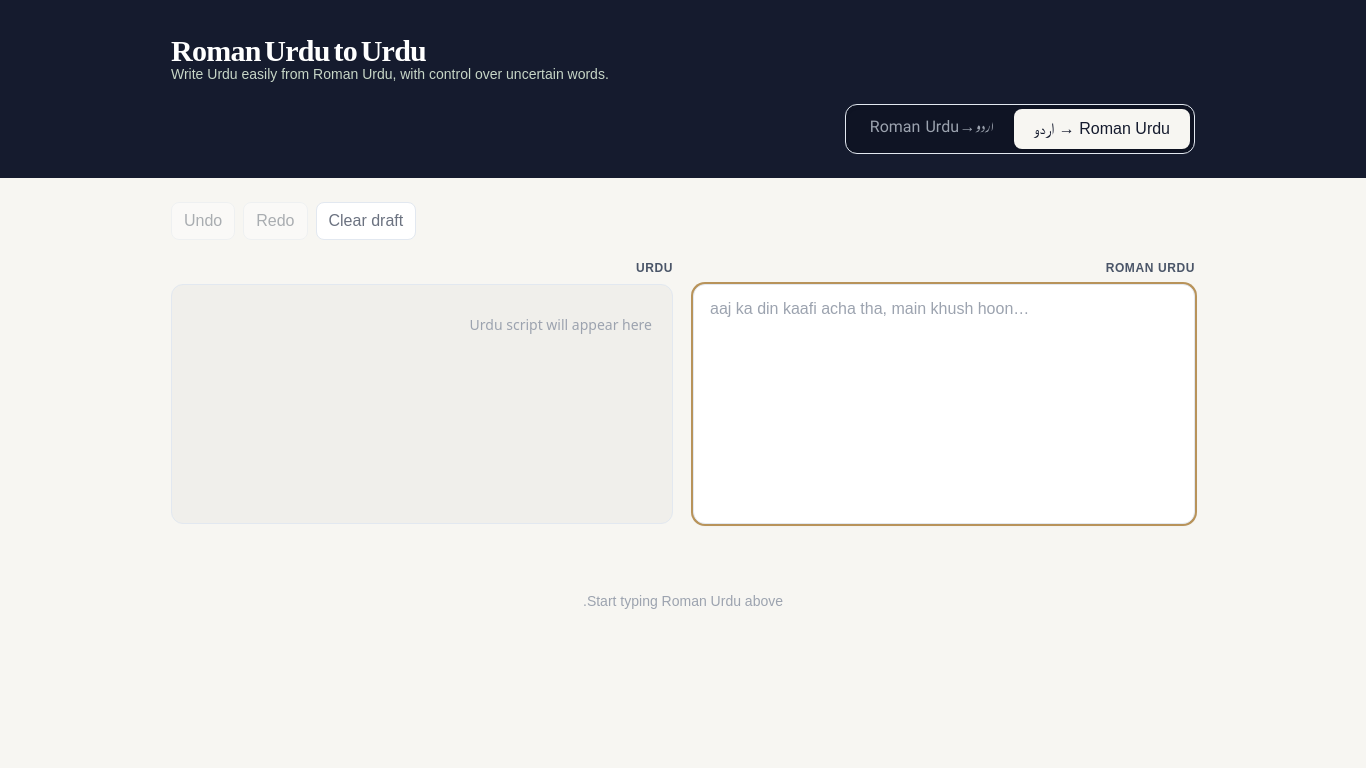
Scenario: 4. known English (office, meeting) not shown in review
Type "office mein meeting hai" into the text box with id "roman-input".
click(944, 404); type("office mein meeting hai")  # box [693,284,1195,524]
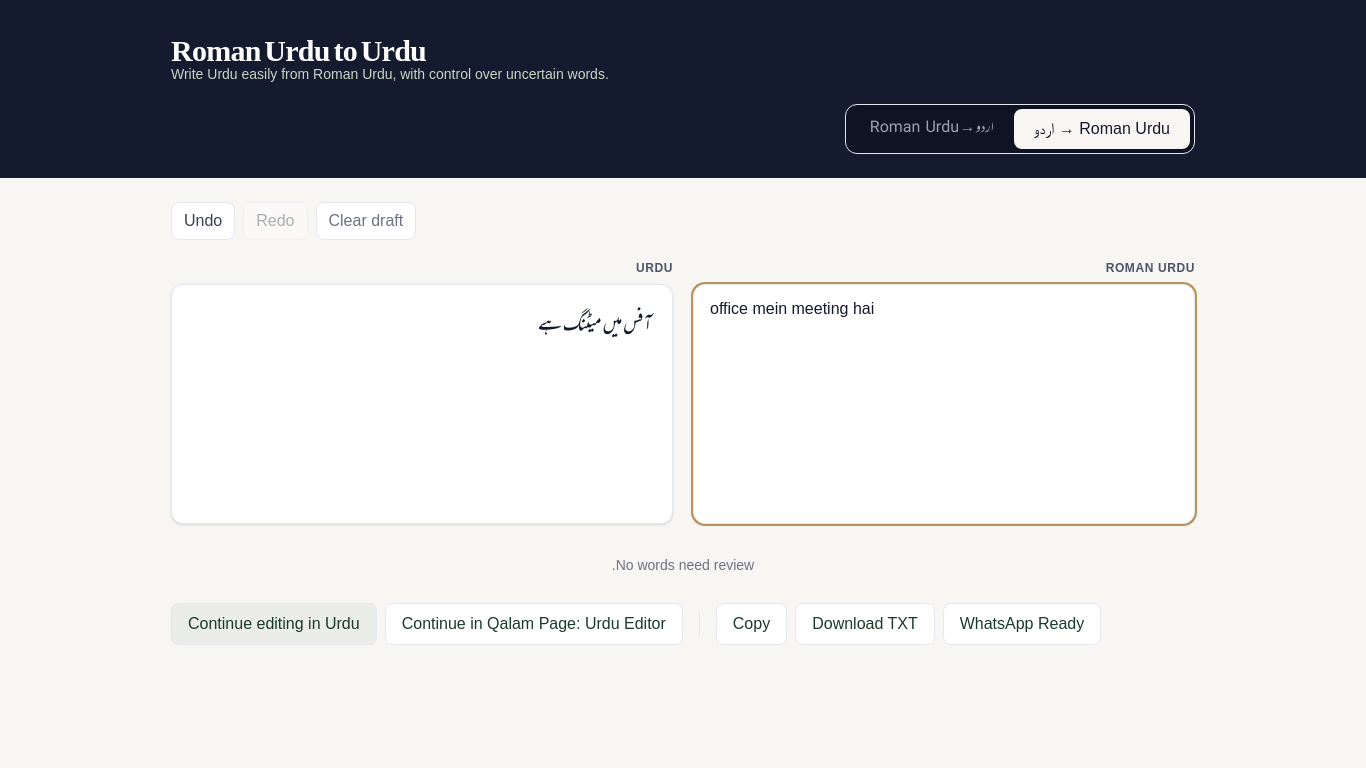
Check: the message shows "آفس", box [538,306,652,344]
Check: the message shows "میٹنگ", box [538,306,652,344]
